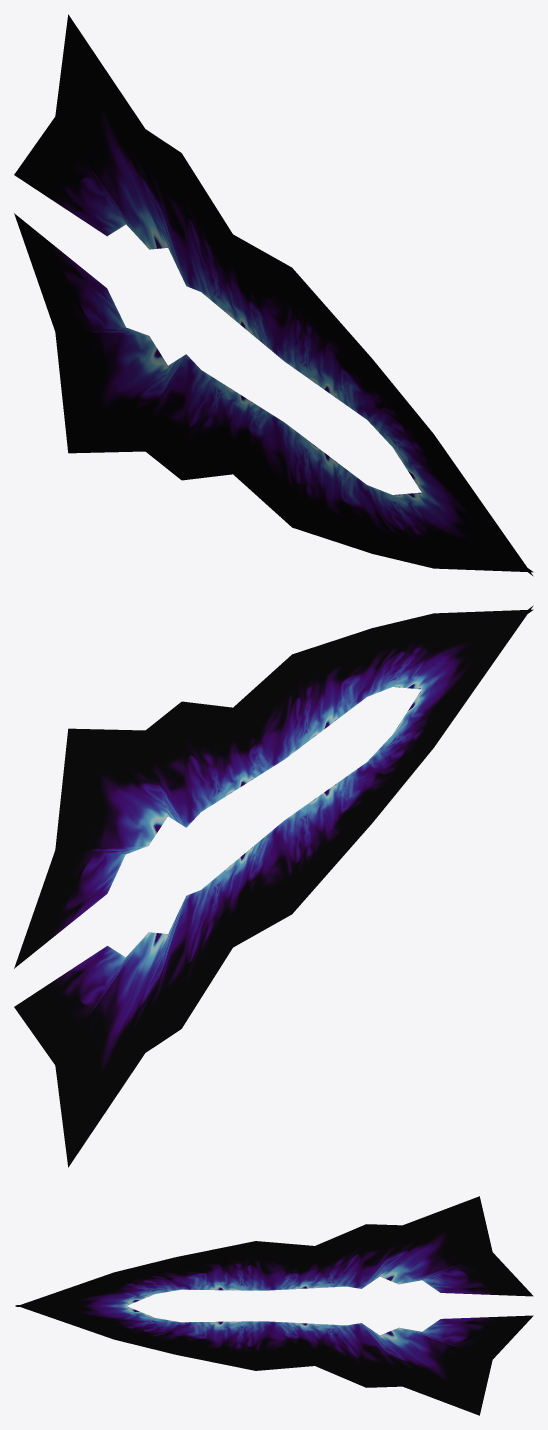
The model's file is xuelangmofazhijian002.fbx.
The picture shows the model from 3 angles, top to bottom: view 1: azimuth 30°, elevation 25°; view 2: azimuth 150°, elevation 25°; view 3: azimuth 270°, elevation 25°; orthographic projection. The views are drawn at different scales.
Parts seen in each view (by area): view 1: xuelangmofazhijian002; view 2: xuelangmofazhijian002; view 3: xuelangmofazhijian002.
Boxes of the visible parts, bbox=[...] form: xuelangmofazhijian002: bbox=[14, 14, 533, 576]; xuelangmofazhijian002: bbox=[14, 605, 533, 1167]; xuelangmofazhijian002: bbox=[15, 1196, 533, 1415].
Bounding box in the file's own units: 0.2984 × 236 × 506.
